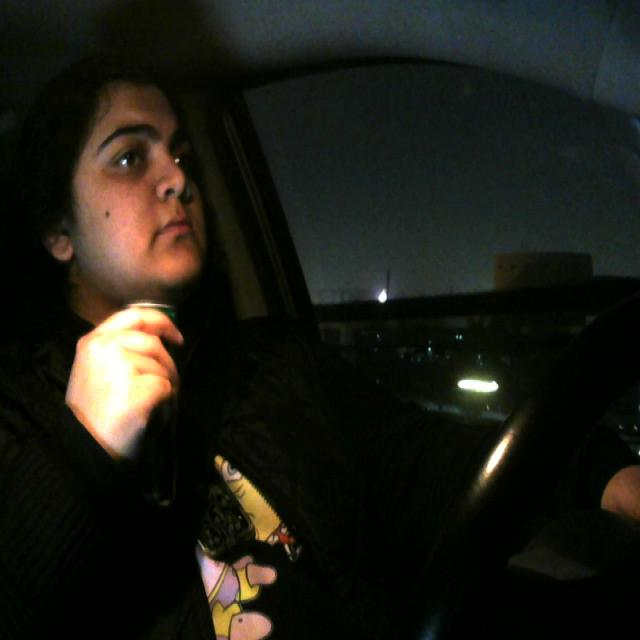drinking: (114, 297, 182, 497)
